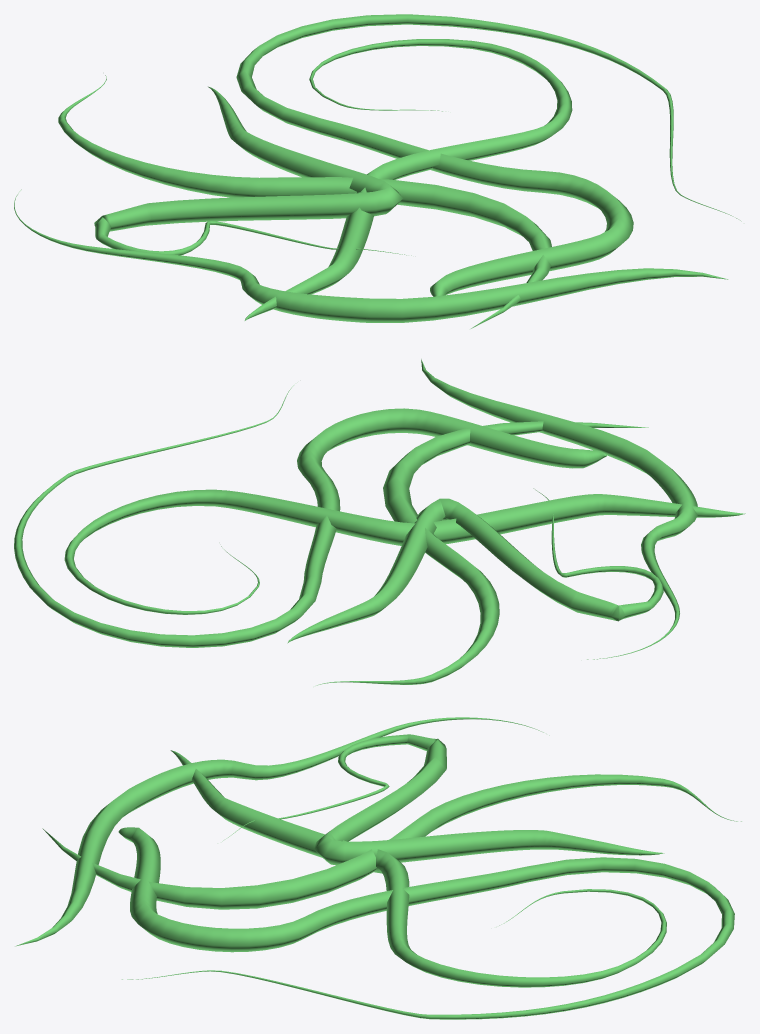
File: vine.fbx
3 renders of one model, top to bottom at view 1: azimuth 30°, elevation 25°; view 2: azimuth 150°, elevation 25°; view 3: azimuth 270°, elevation 25°, orthographic.
Visible parts, largest first — view 1: BezierCurve; view 2: BezierCurve; view 3: BezierCurve.
Boxes of the visible parts, left/top/right/bottom form: BezierCurve: left=14, top=14, right=741, bottom=328; BezierCurve: left=14, top=359, right=745, bottom=685; BezierCurve: left=15, top=717, right=741, bottom=1019.
Bounding box in the file's own units: 177 × 9.58 × 182.
